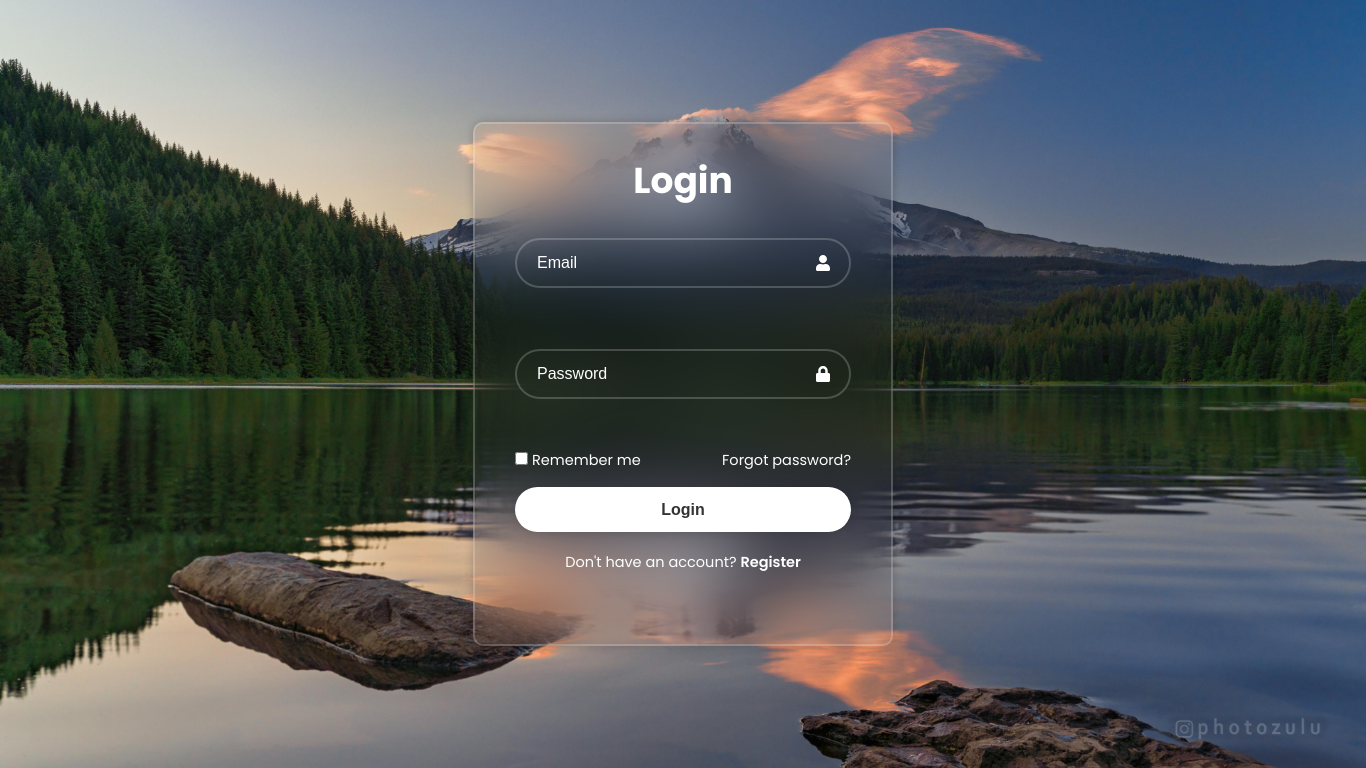
it: LoginForm › Shows an error when user enters a password that is too short
The image size is (1366, 768).
Type "test@gmail.com" into the field with test id "email-input" at (683, 263), box [515, 238, 851, 288]
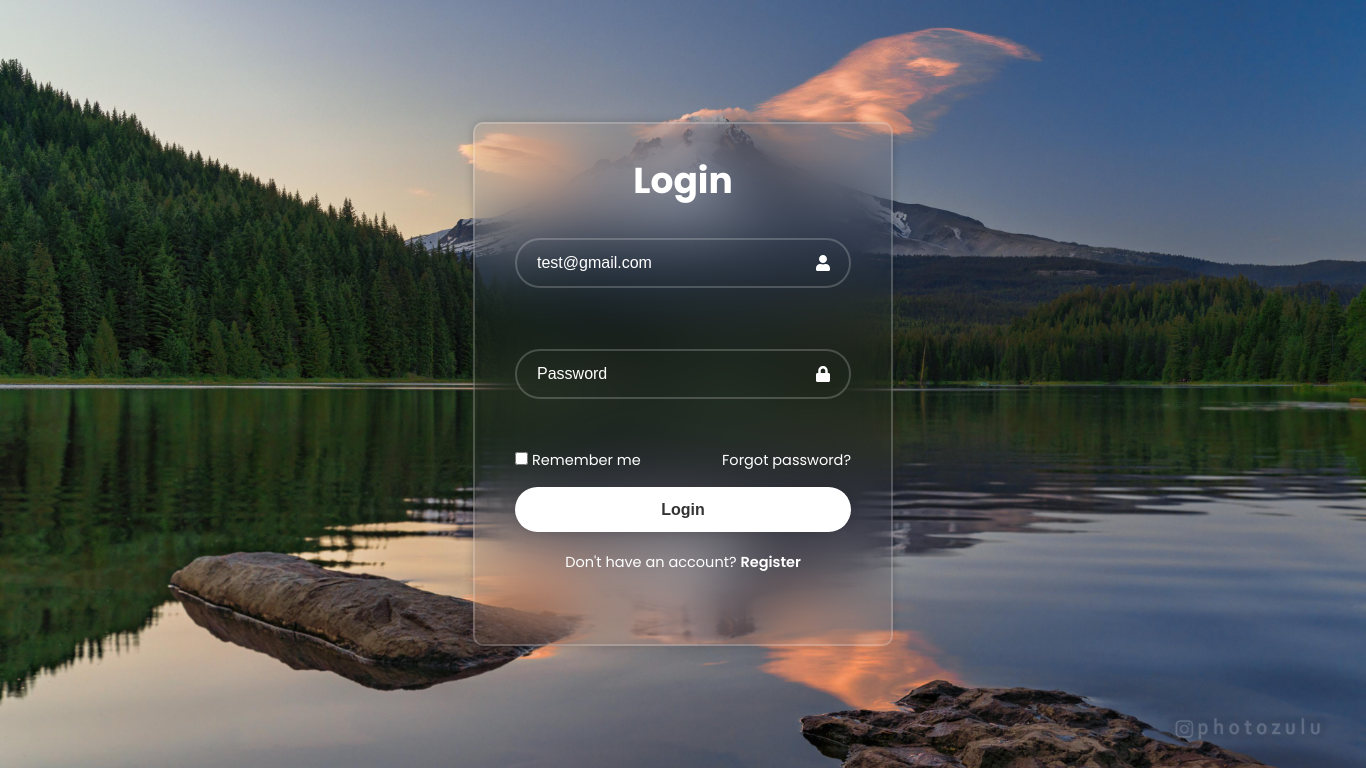
Type "pass" into the password field with test id "password-input" at (683, 374), box [515, 349, 851, 399]
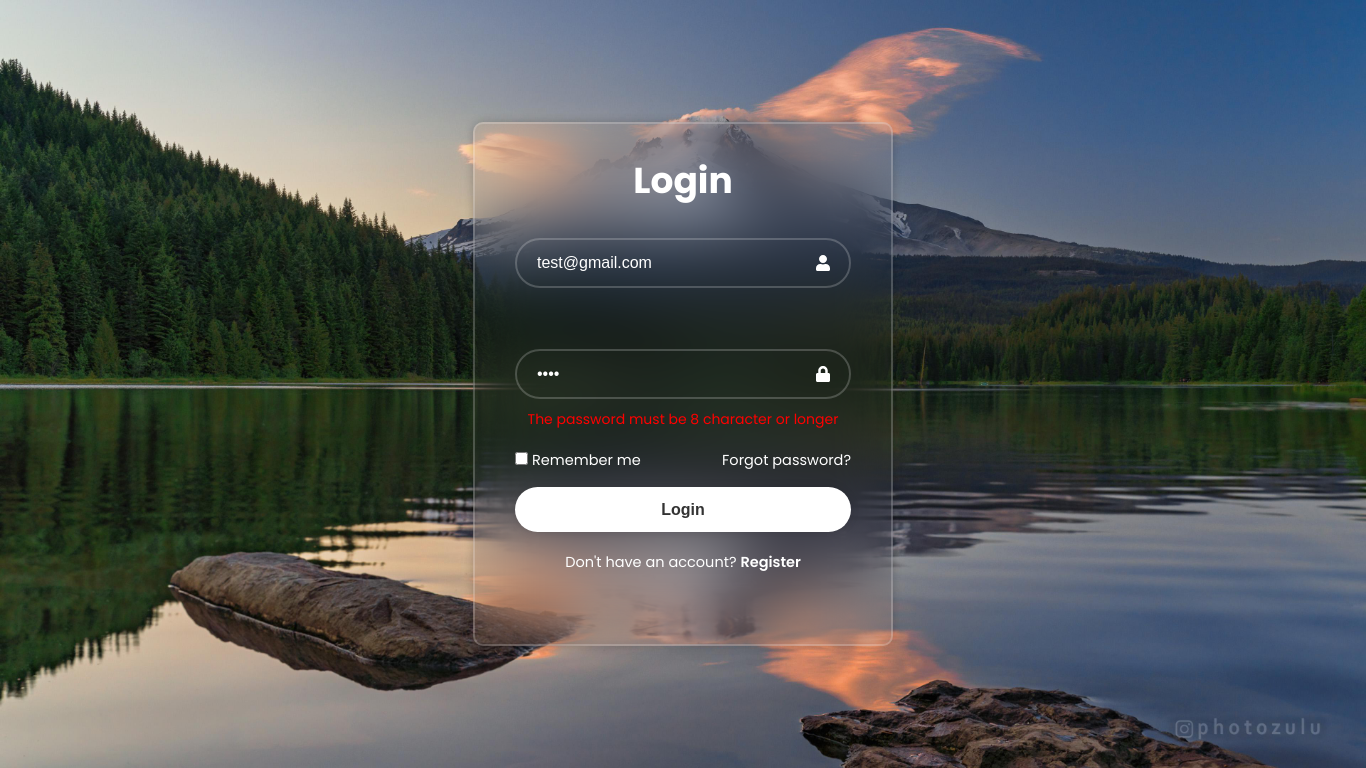
Now the element with test id "login-form" shows "The password must be 8 character or longer", box [528, 409, 838, 429]
